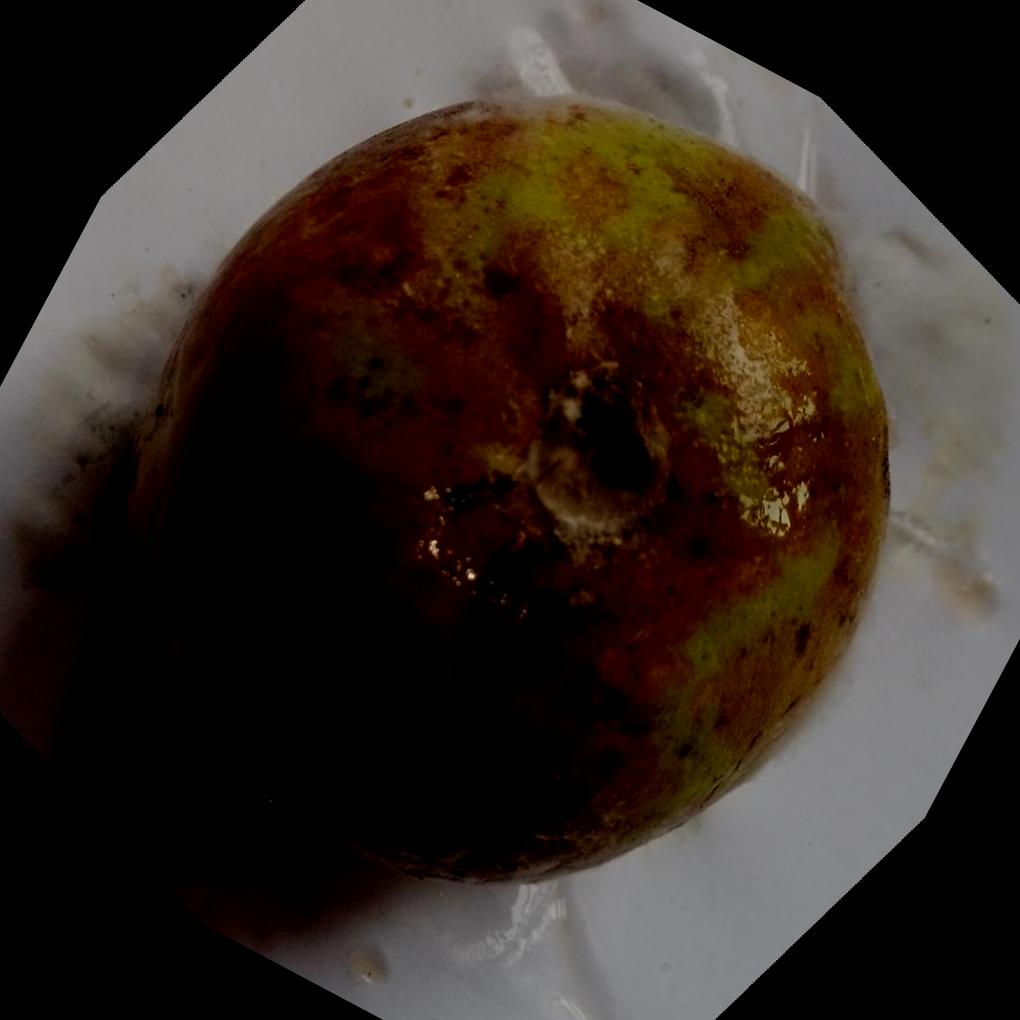FreshOrange: (112, 95, 888, 885)
